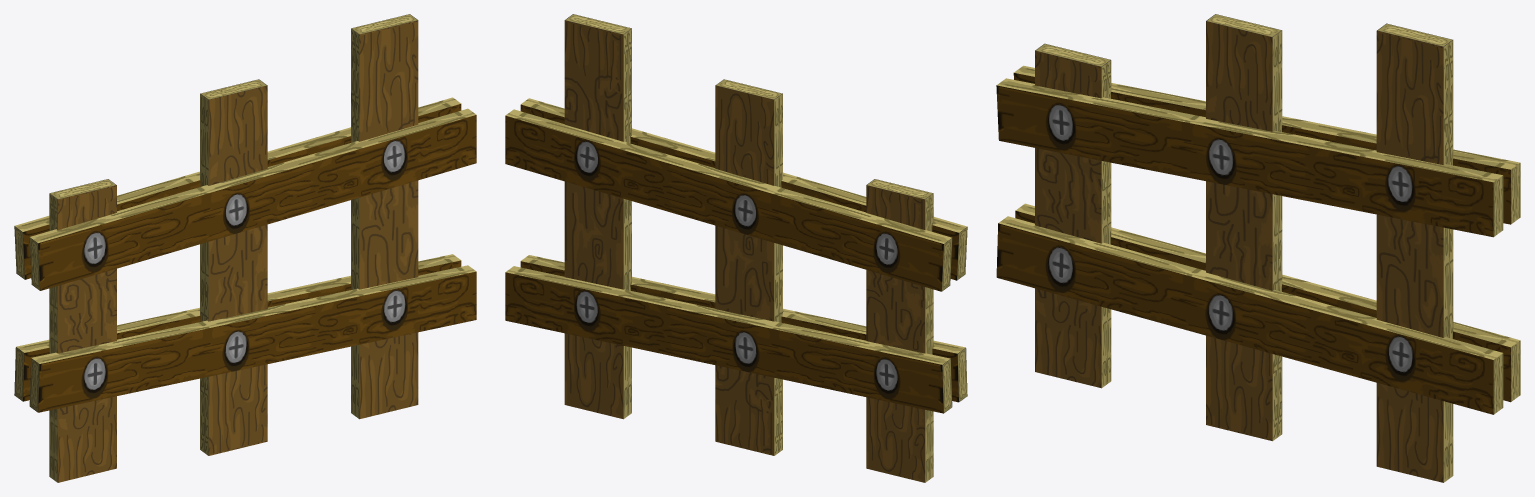
Rendered from Cerca-short.fbx.
3 renders of one model, left to right at view 1: azimuth 30°, elevation 25°; view 2: azimuth 150°, elevation 25°; view 3: azimuth 330°, elevation 25°, orthographic. The views are drawn at different scales.
Parts seen in each view (by area): view 1: Cube; view 2: Cube; view 3: Cube.
Part boxes in pixels (x1=…): Cube: x1=14, y1=14, x2=476, y2=482; Cube: x1=505, y1=14, x2=967, y2=482; Cube: x1=996, y1=14, x2=1520, y2=482.
Bounding box in the file's own units: 374 × 314 × 35.14.
Materials: 1 (1 with a texture image).
